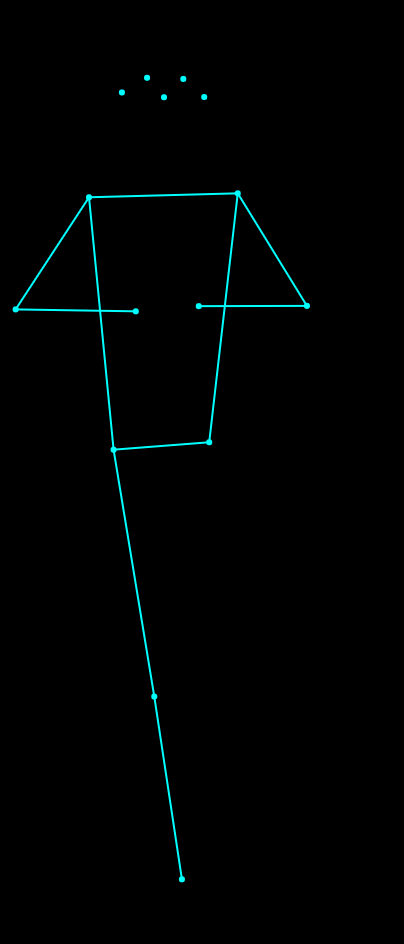tree: (10, 61, 318, 893)
